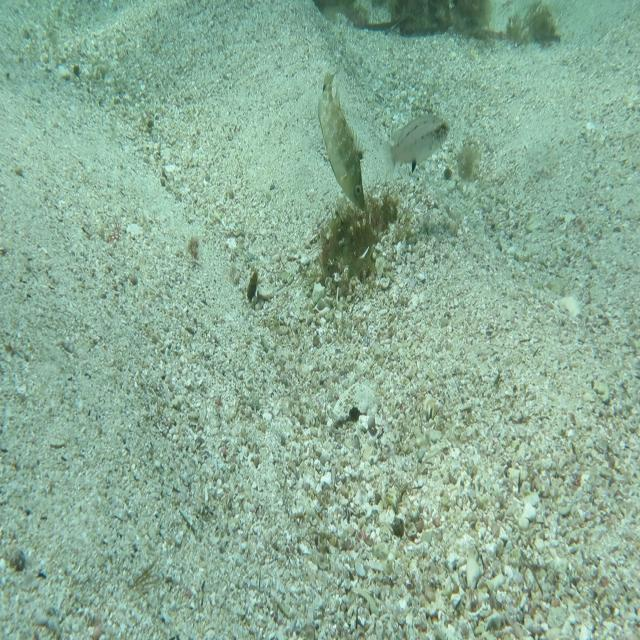INSF: (316, 58, 367, 223)
core_nest: (339, 196, 388, 241)
female: (373, 103, 452, 178)
nest: (315, 180, 408, 304)
